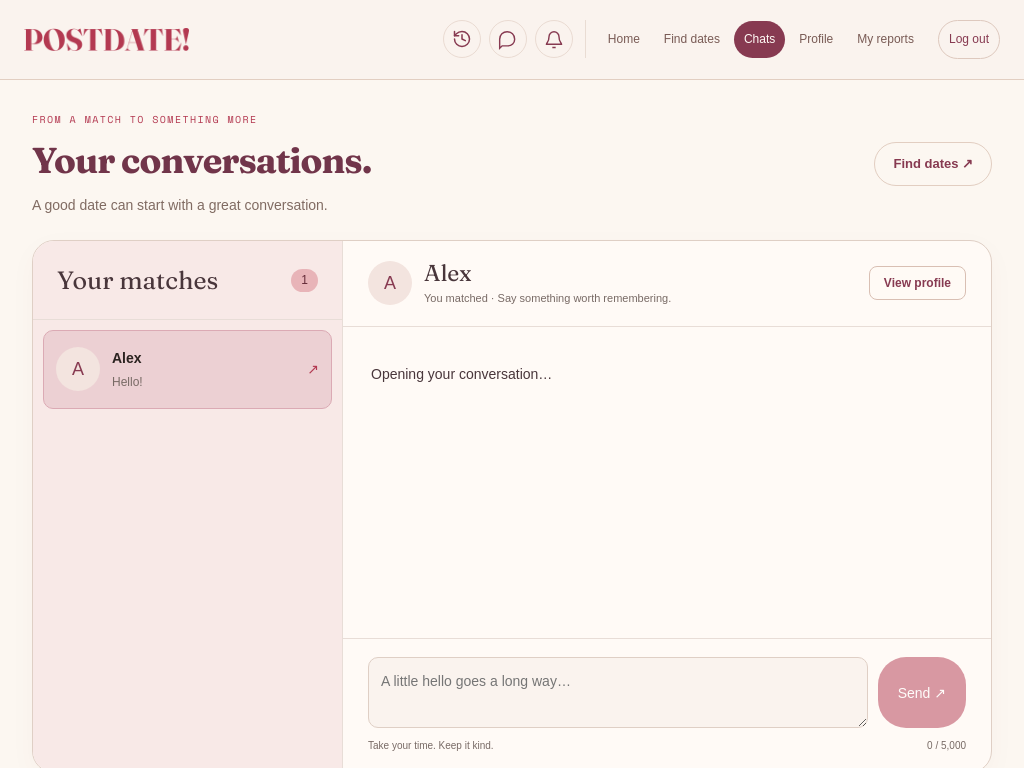
Test case: shows a previously saved rating after reopening a chat
The image size is (1024, 768).
Click the button "View profile" at (917,283), box [869,266,966,300]
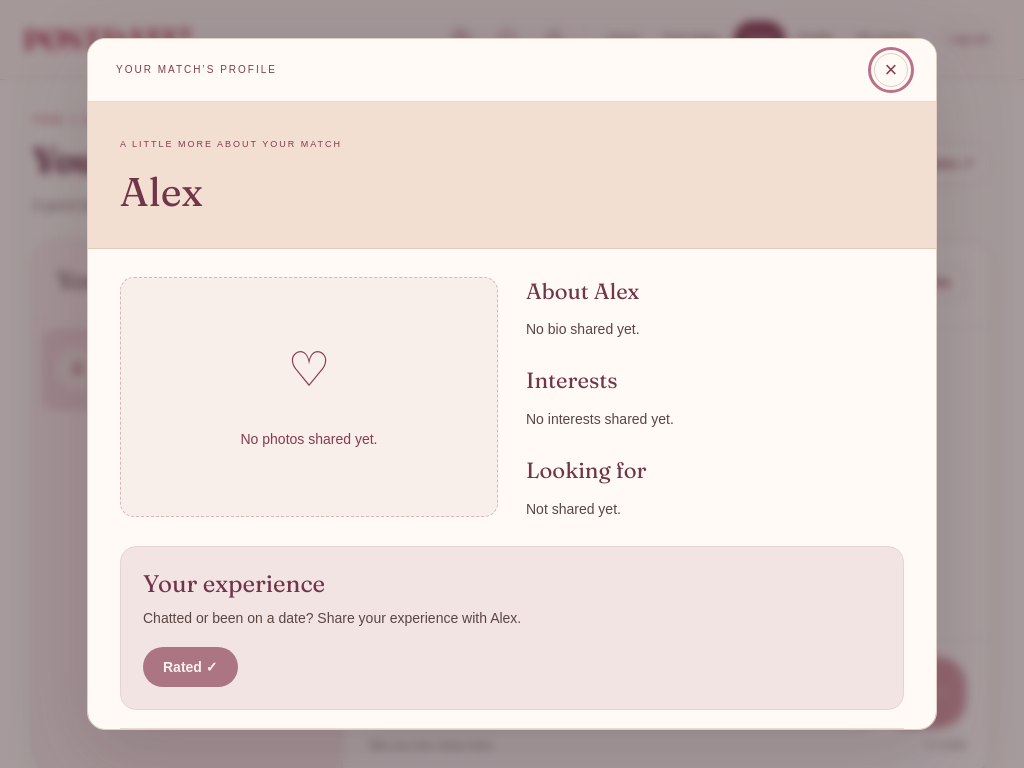
Expected: the button "Rated ✓" is disabled, [143,647,238,687]
